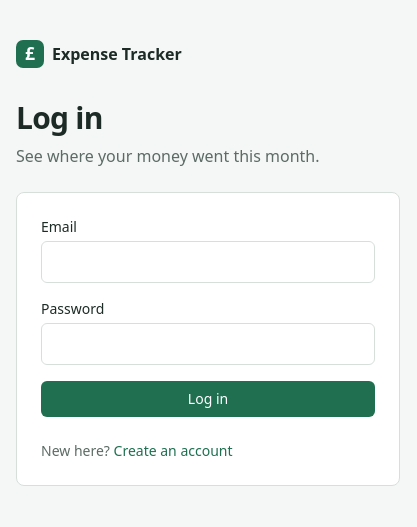
Test: LoginPage › checks both fields before contacting the server
Click the button "Log in": (208, 399) top-left (41, 381), bottom-right (375, 417)
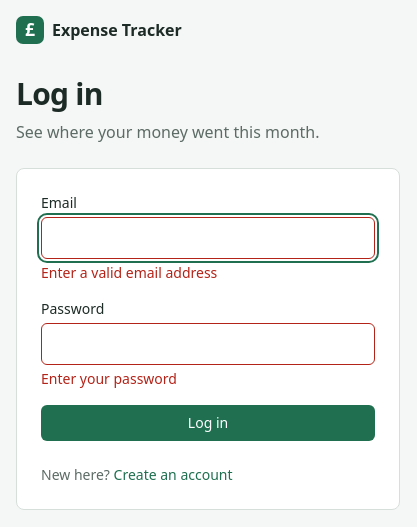
Expected: the text "Enter a valid email address" is shown, top-left (41, 263), bottom-right (217, 282)
Expected: the text "Enter your password" is shown, top-left (41, 369), bottom-right (177, 388)
